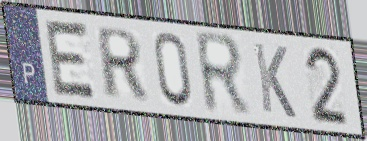0: (152, 30, 194, 109)
2: (302, 44, 351, 129)
E: (42, 17, 99, 102)
K: (251, 40, 299, 121)
R: (192, 29, 253, 120), (96, 25, 149, 101)
